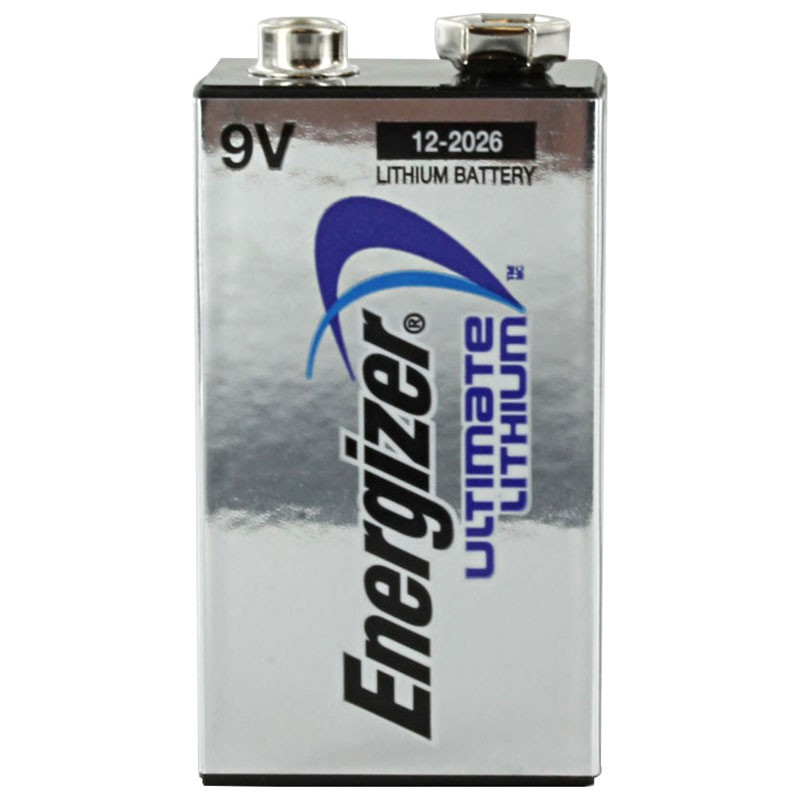9V: (170, 14, 616, 794)
